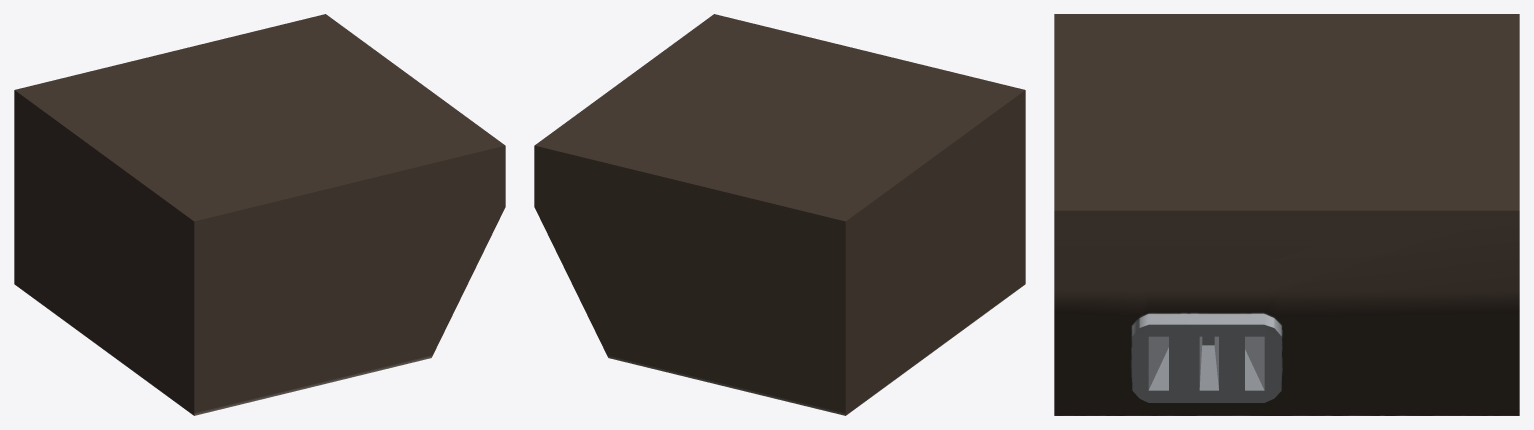
The model's file is Wall_Top_Vent.fbx.
3 views of the same model, side by side, from view 1: azimuth 30°, elevation 25°; view 2: azimuth 150°, elevation 25°; view 3: azimuth 270°, elevation 25° (orthographic). The views are drawn at different scales.
Visible parts, largest first — view 1: Wall_Ver_VENT:pCube1; view 2: Wall_Ver_VENT:pCube1; view 3: Wall_Ver_VENT:pCube1.
Boxes of the visible parts, x1,y1,x2,y2 form: Wall_Ver_VENT:pCube1: [14, 14, 505, 415]; Wall_Ver_VENT:pCube1: [534, 14, 1025, 415]; Wall_Ver_VENT:pCube1: [1054, 14, 1519, 415].
Size of the model in its own units: 100 by 59.7 by 100.
1 material, 1 textured.
